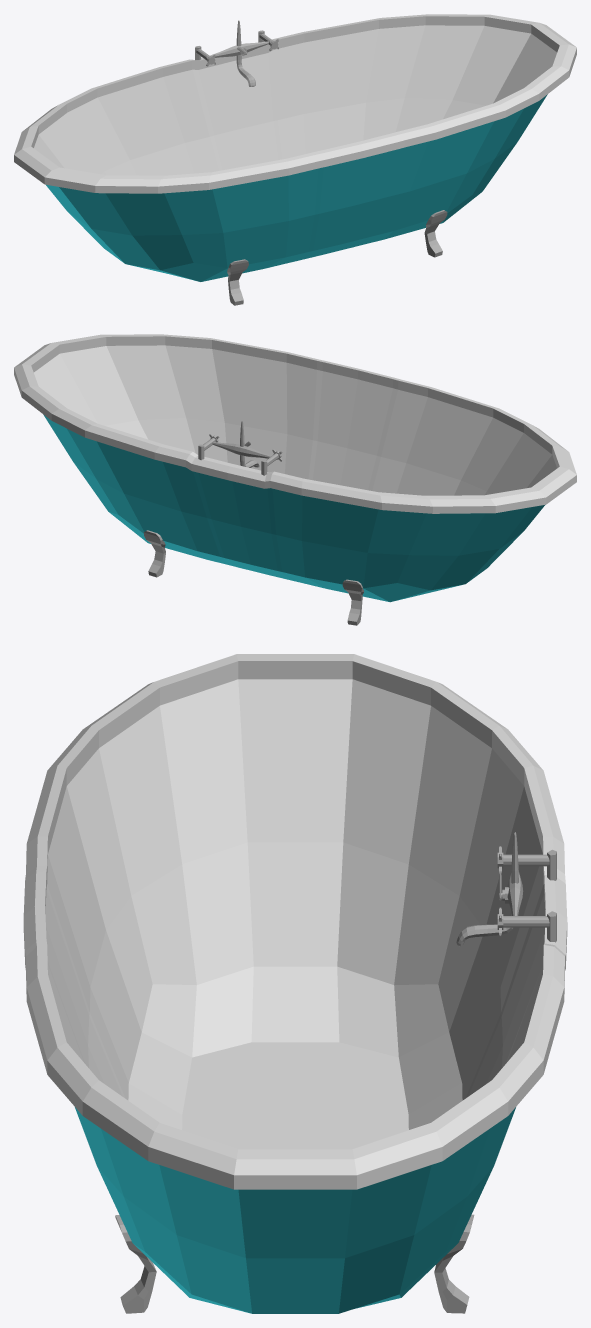
The model's file is BANHEIRA.fbx.
The picture shows the model from 3 angles, top to bottom: view 1: azimuth 30°, elevation 25°; view 2: azimuth 150°, elevation 25°; view 3: azimuth 270°, elevation 25°; orthographic projection. The views are drawn at different scales.
Visible parts, largest first — view 1: Cube, pé.001, pé.002, Cylinder; view 2: Cube, pé.003, pé.004, Cylinder; view 3: Cube, pé.002, pé.004, Cylinder.001.
Boxes of the visible parts, bbox=[...] form: Cube: bbox=[14, 14, 576, 281]; pé.001: bbox=[227, 259, 248, 305]; pé.002: bbox=[424, 210, 447, 257]; Cylinder: bbox=[210, 41, 268, 57]; Cube: bbox=[14, 334, 576, 602]; pé.003: bbox=[342, 579, 363, 625]; pé.004: bbox=[143, 530, 165, 577]; Cylinder: bbox=[212, 442, 270, 458]; Cube: bbox=[23, 654, 567, 1313]; pé.002: bbox=[115, 1215, 156, 1313]; pé.004: bbox=[434, 1214, 474, 1313]; Cylinder.001: bbox=[456, 832, 518, 946].
Bounding box in the file's own units: 437 × 149 × 193.
